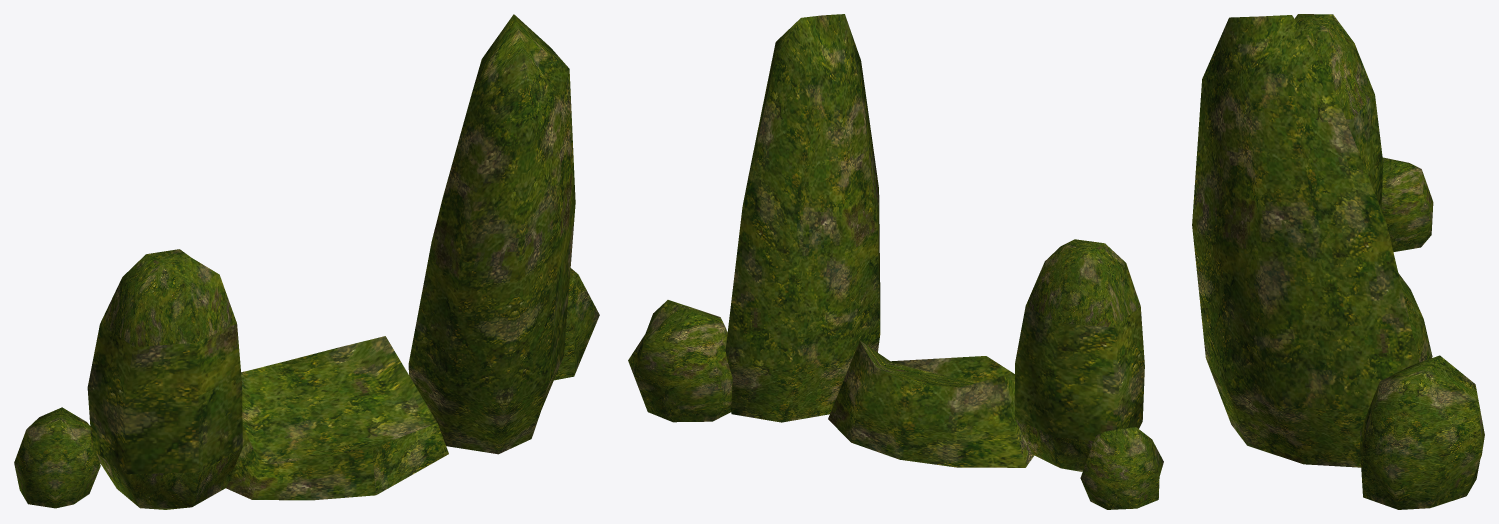
File: OVERHILL_A_01_ROCK_BRIDGE_BASE.obj
3 views of the same model, side by side, from view 1: azimuth 30°, elevation 25°; view 2: azimuth 150°, elevation 25°; view 3: azimuth 270°, elevation 25° (orthographic). The views are drawn at different scales.
Visible parts, largest first — view 1: ock_bridge_base; view 2: ock_bridge_base; view 3: ock_bridge_base.
Boxes of the visible parts, bbox=[...] form: ock_bridge_base: bbox=[14, 14, 599, 509]; ock_bridge_base: bbox=[628, 14, 1163, 509]; ock_bridge_base: bbox=[1192, 14, 1484, 509].
Bounding box in the file's own units: 531 × 362 × 219.
